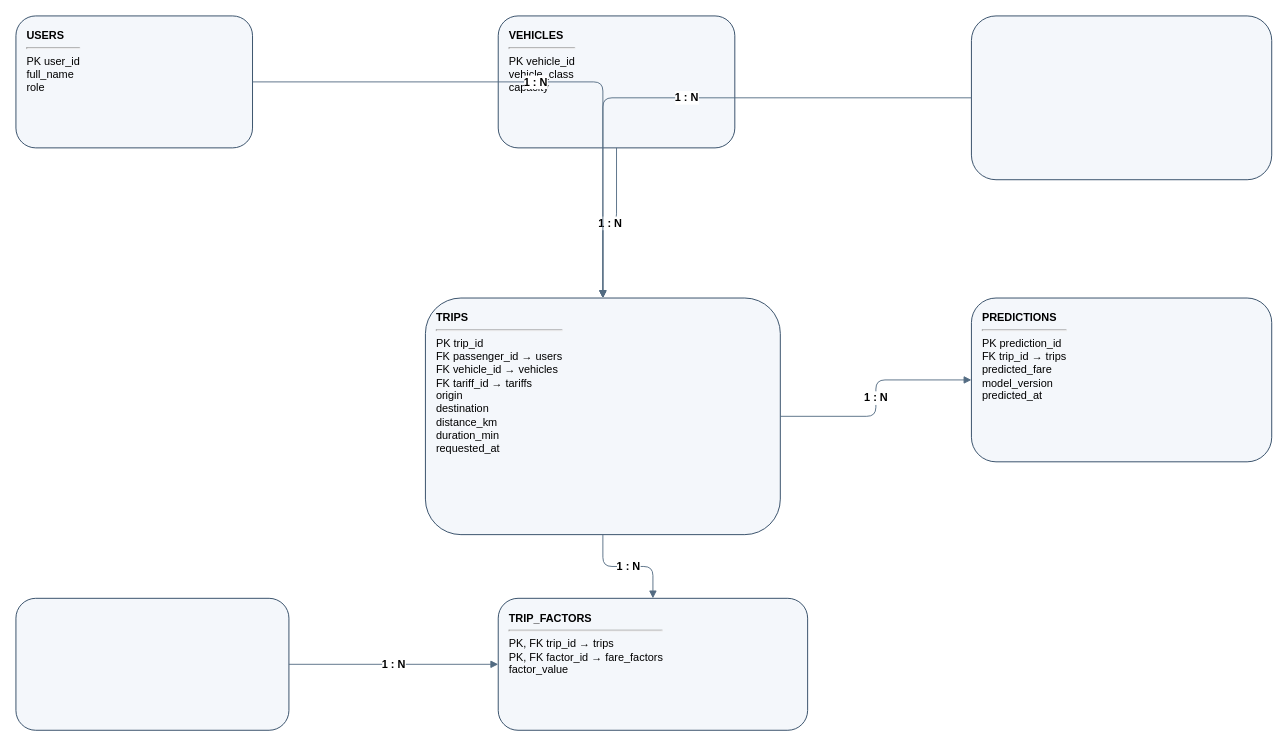
This 1288x746 diagram has some shape labels left out. The shapes that lost their labels are listed below. From the top down, each one's box as (x1, y1, x2, y2) in pixels, then its label:
(971, 15, 1272, 180): TARIFFS PK tariff_id name base_fare price_per_km price_per_min
(15, 597, 289, 730): FARE_FACTORS PK factor_id factor_name description
